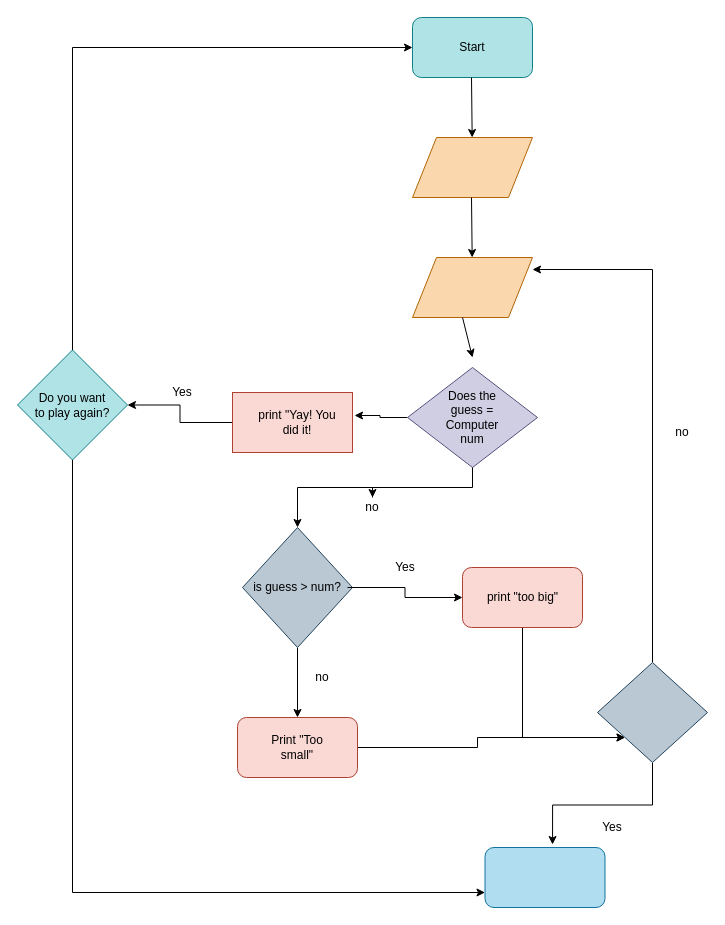
Some shapes in this 725 by 925 pixel diagram are drawn without their labels. Each missing label, with the box of its shape:
Do you give up?: (596, 662, 708, 762)
end: (484, 846, 605, 908)
guess = input user guess: (412, 256, 532, 318)
num=input random number: (412, 136, 532, 198)
